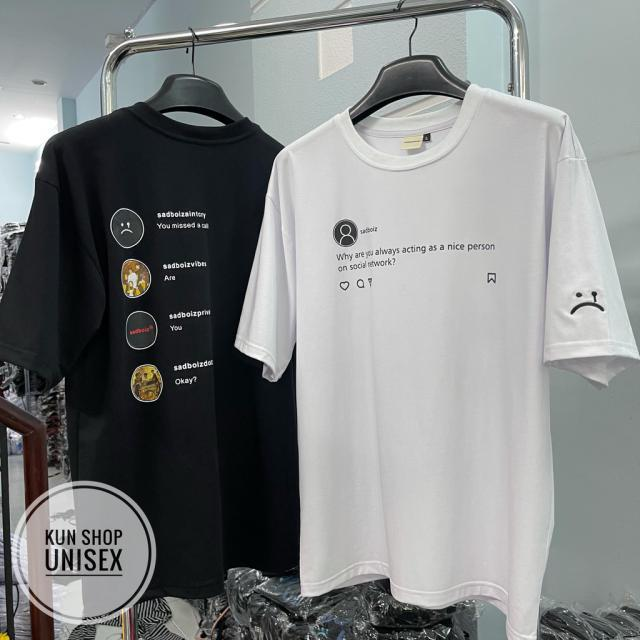Shirt: (233, 81, 640, 640), (2, 94, 340, 602)
